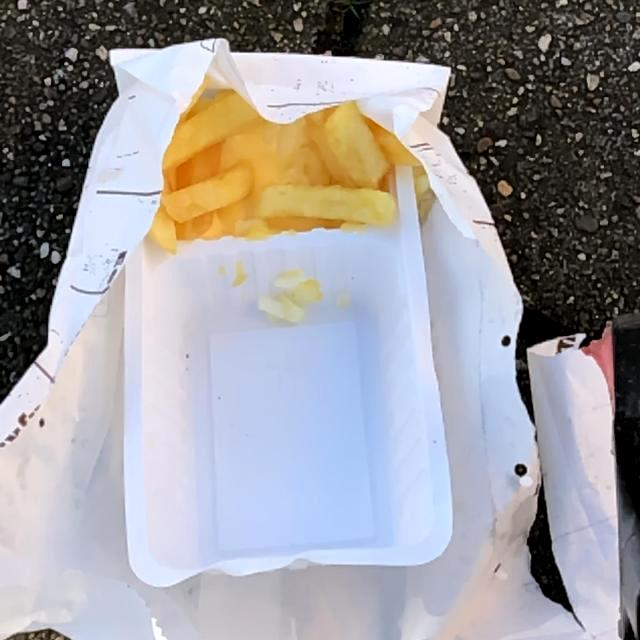Plastic: (117, 72, 455, 592)
